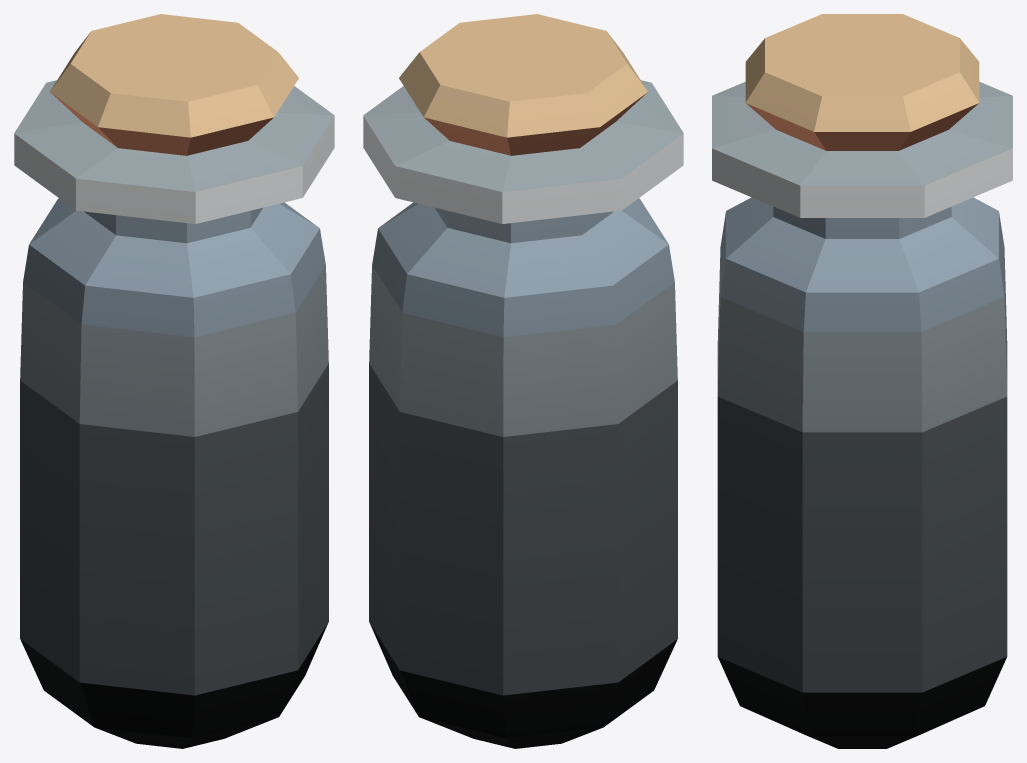
File: source.glb
The picture shows the model from 3 angles, left to right: view 1: azimuth 30°, elevation 25°; view 2: azimuth 150°, elevation 25°; view 3: azimuth 270°, elevation 25°; orthographic projection.
Parts seen in each view (by area): view 1: model; view 2: model; view 3: model.
Boxes of the visible parts, <box> form: model: <box>14,14,334,748</box>; model: <box>363,14,683,748</box>; model: <box>712,14,1012,748</box>.
Size of the model in its own units: 0.22 by 0.54 by 0.22.
Materials: 1 (1 with a texture image).
